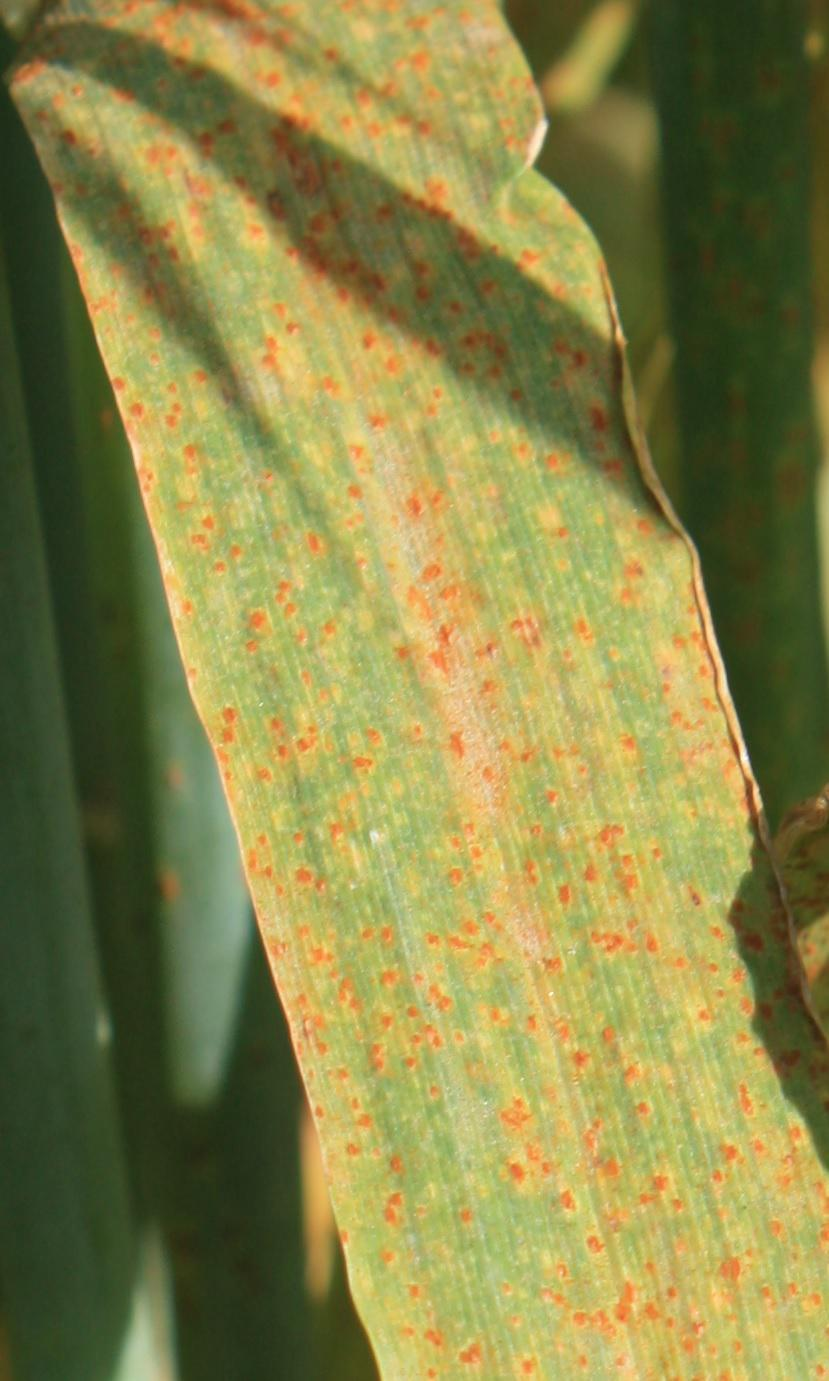Wheat: (22, 18, 633, 612), (203, 516, 751, 1109), (344, 1050, 820, 1372)
